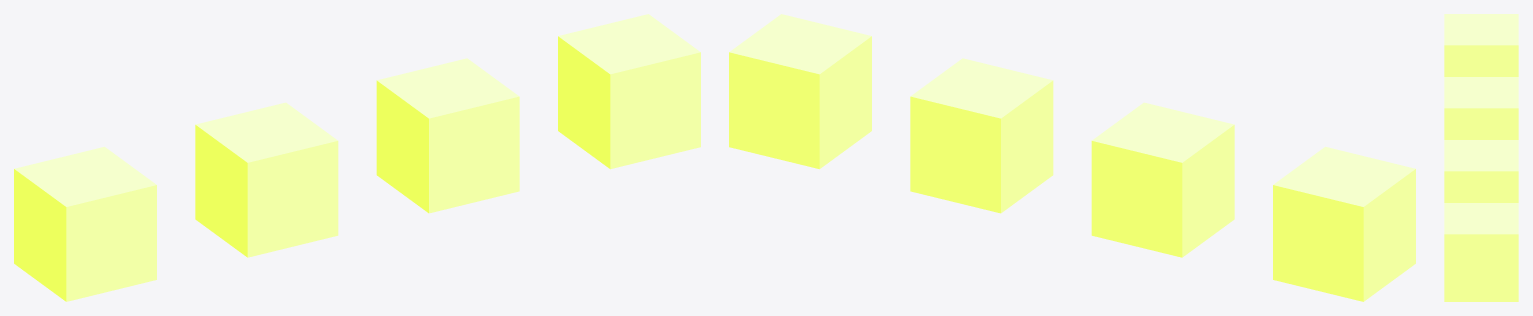
Rendered from Mine_Player.fbx.
3 views of the same model, side by side, from view 1: azimuth 30°, elevation 25°; view 2: azimuth 150°, elevation 25°; view 3: azimuth 270°, elevation 25° (orthographic). The views are drawn at different scales.
Parts seen in each view (by area): view 1: Mines; view 2: Mines; view 3: Mines.
Part boxes in pixels (bbox=[...]): Mines: bbox=[14, 14, 700, 301]; Mines: bbox=[729, 14, 1415, 301]; Mines: bbox=[1444, 14, 1518, 301].
Bounding box in the file's own units: 0.9243 × 0.132 × 0.132.
